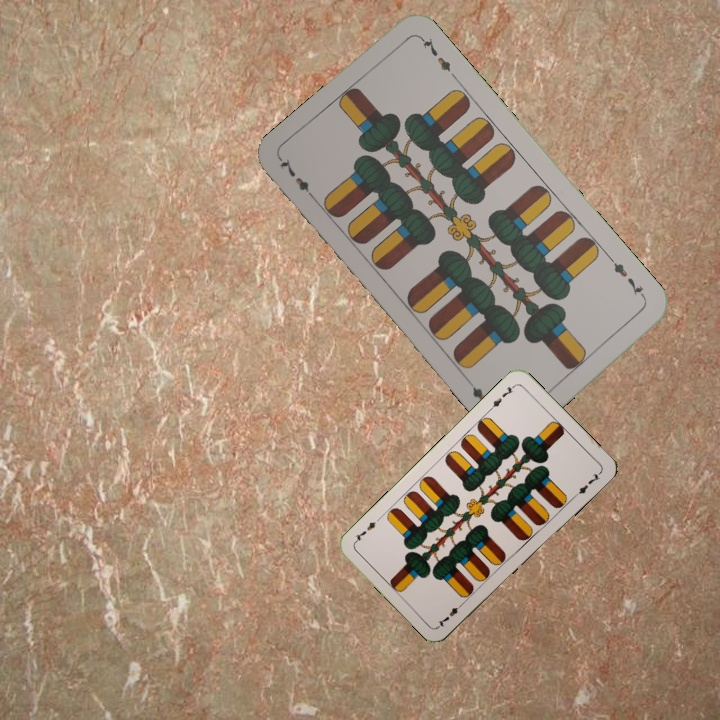E7: (275, 154, 319, 204), (606, 254, 649, 303), (433, 598, 467, 630), (485, 381, 518, 413)
